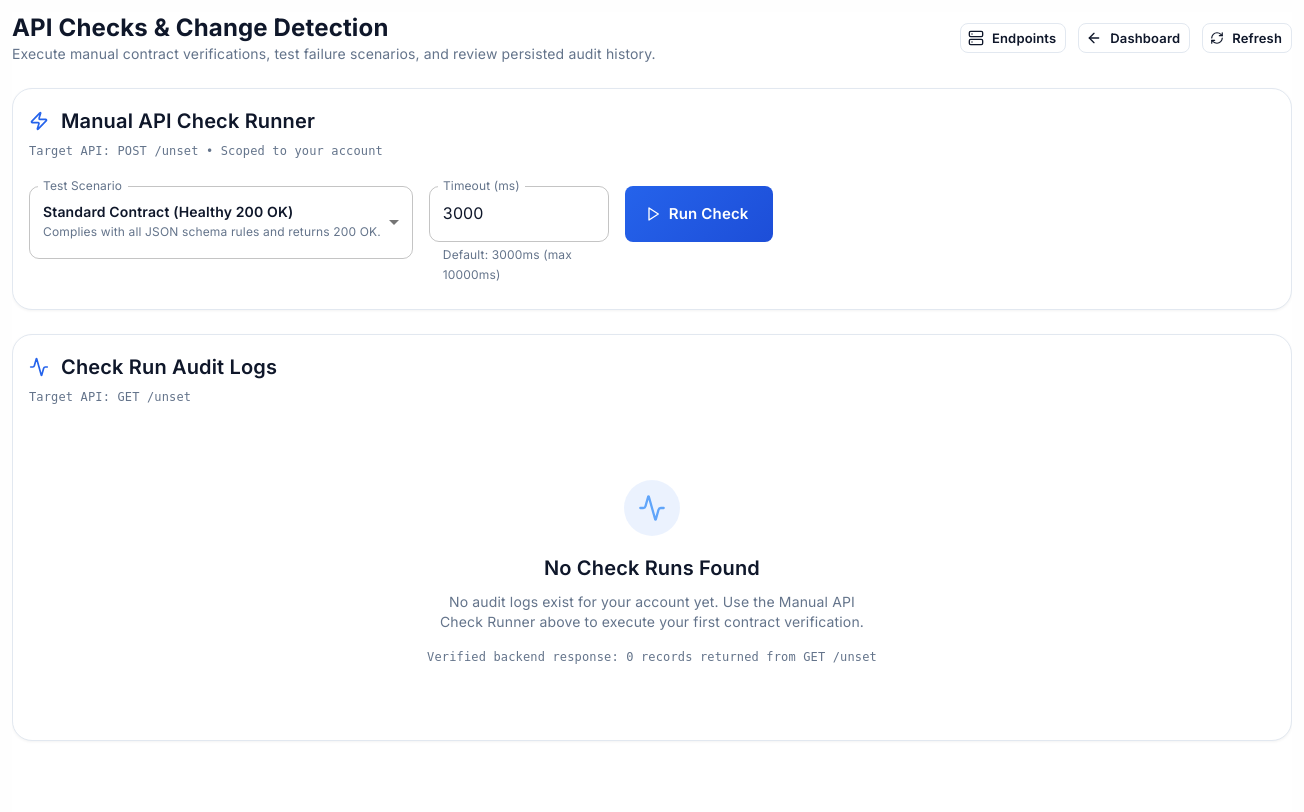
ChecksPage › displays backend error message when manual check execution fails
Click the button with test id "execute-check-btn": (699, 214) [625,186,772,242]
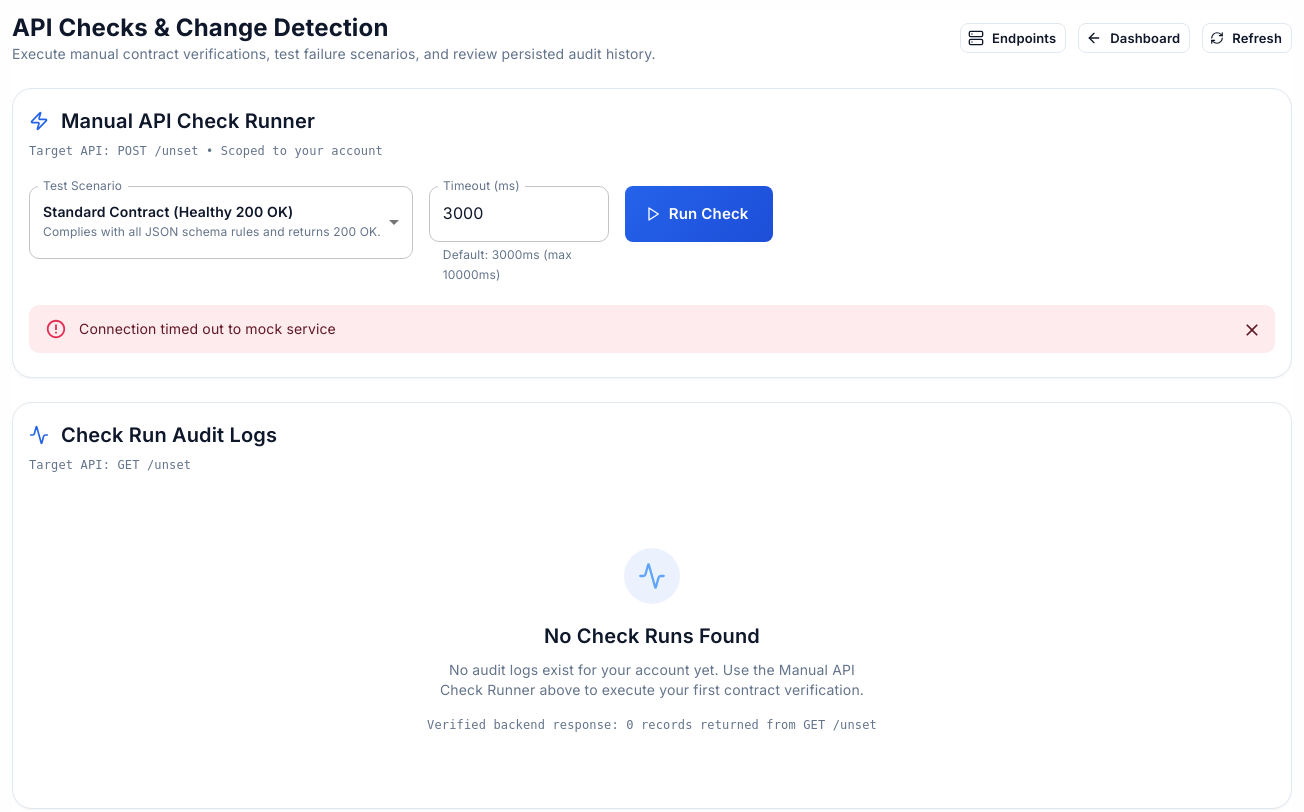
expect the message "Connection timed out to mock service" is shown: met, box [29,305,1275,353]
expect the text "Connection timed out to mock service" is shown: met, box [79,320,336,337]
